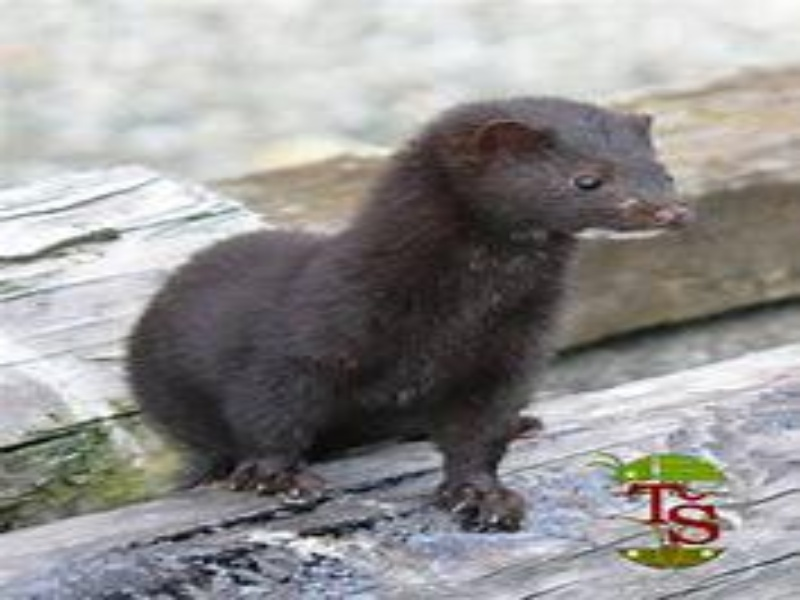minkish: (120, 84, 695, 536)
